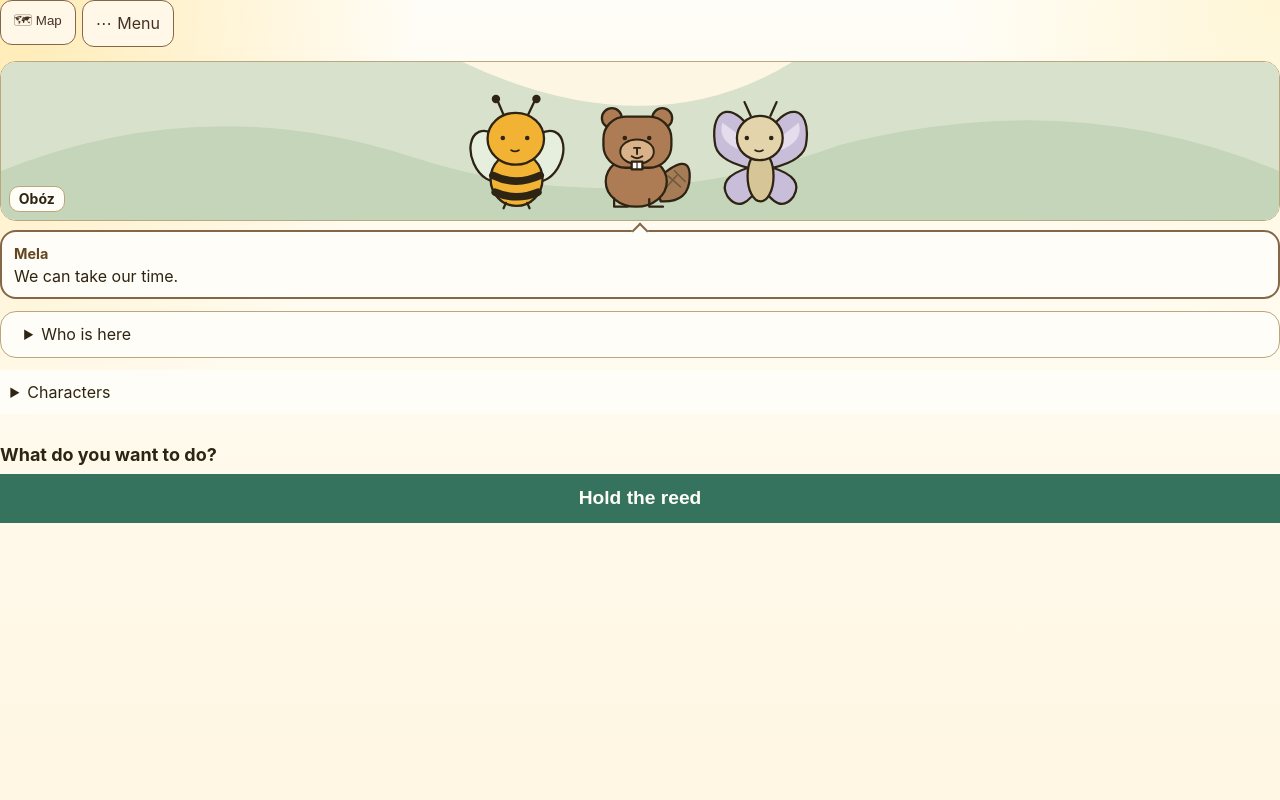
Scenario: keeps the map open and reselects the current tile after changed travel
Click the button with class "game-map-button". click: click(38, 22)
box: top-left (0, 0), bottom-right (76, 45)
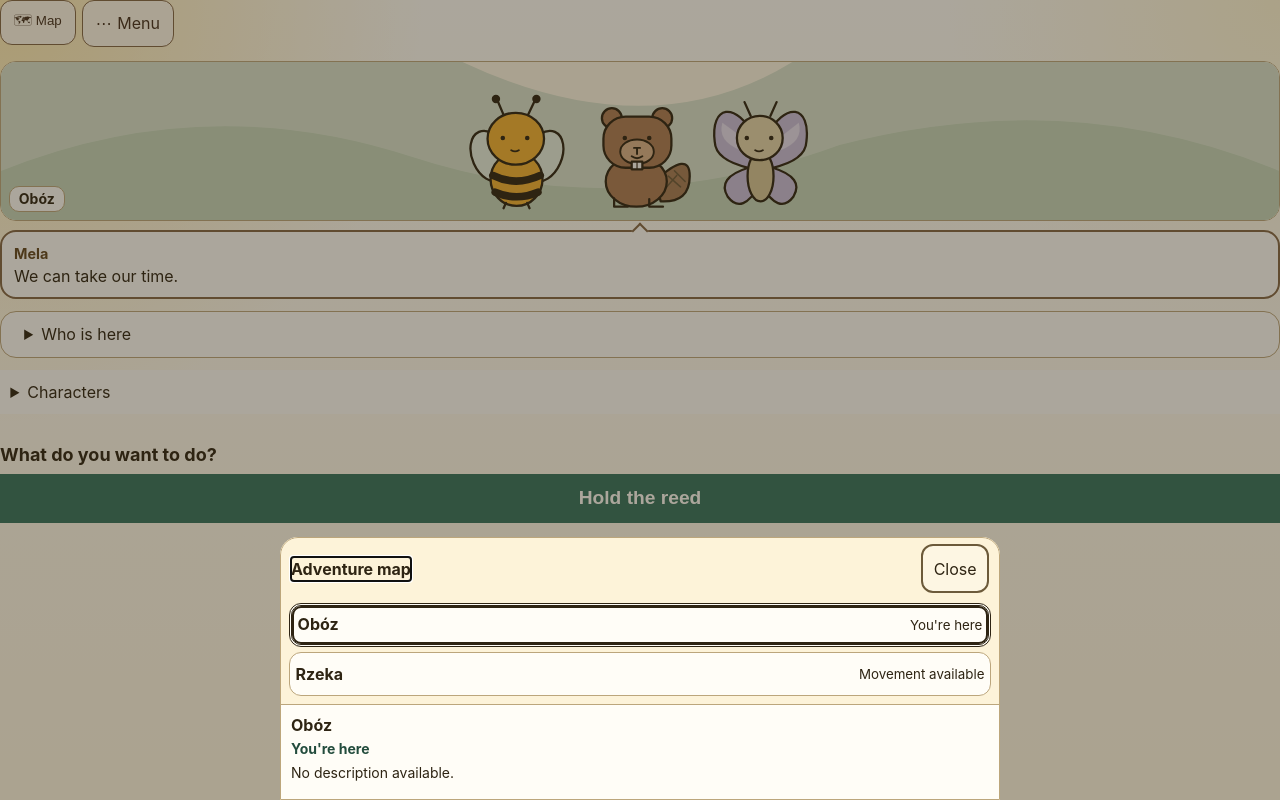
Click the button "Rzeka Movement available". click: click(319, 674)
box: top-left (289, 652), bottom-right (991, 696)
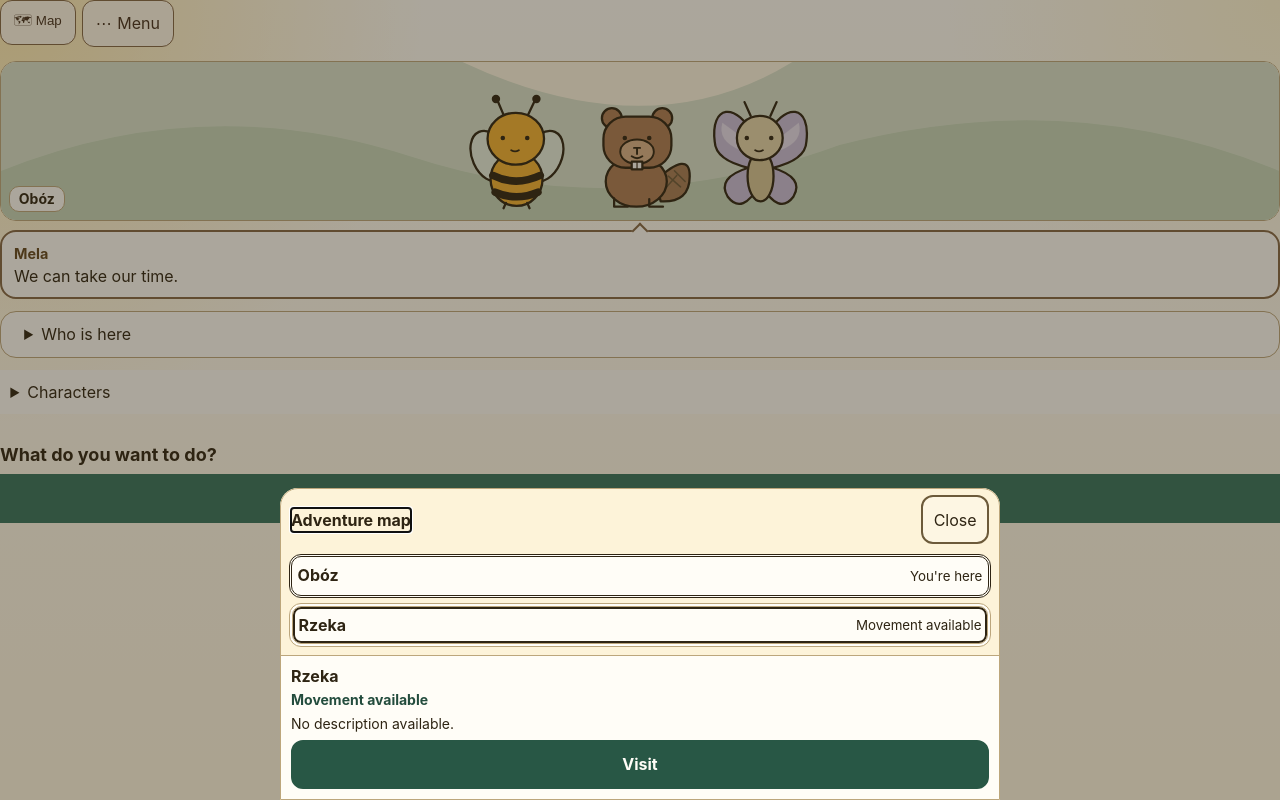
Click the button "Visit". click: click(640, 764)
box: top-left (291, 740), bottom-right (989, 789)
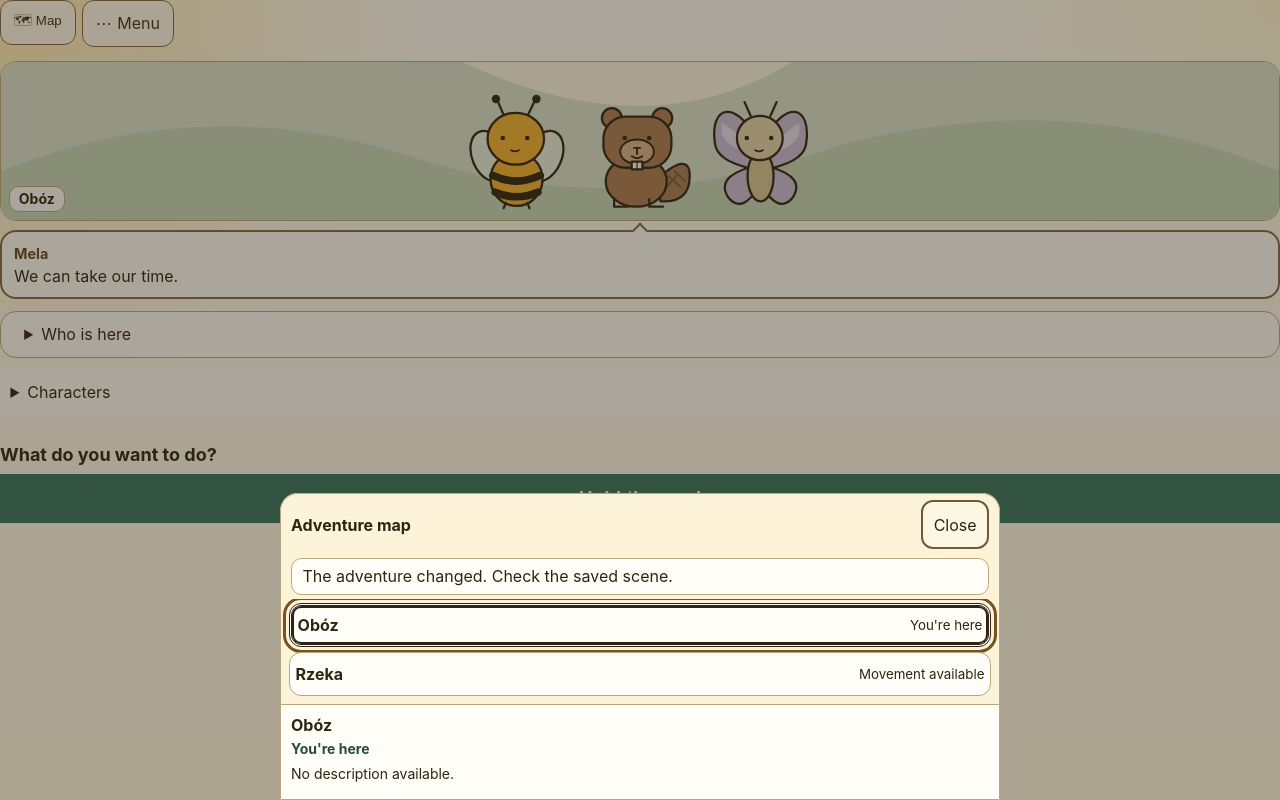
Check: the message "The adventure changed. Check the saved scene." is shown, box top-left (291, 558), bottom-right (989, 595)
